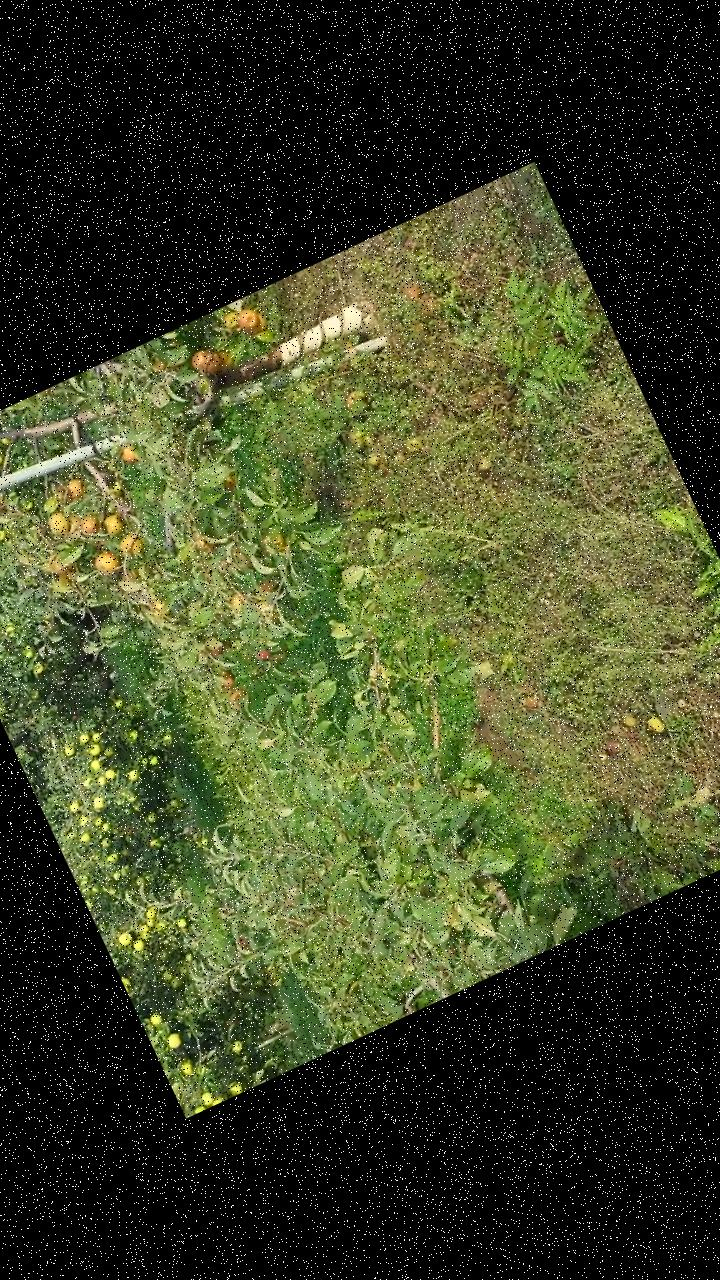Apple: (187, 346, 222, 381), (112, 530, 144, 562), (42, 552, 76, 580), (90, 546, 120, 576), (260, 529, 290, 559), (44, 509, 72, 538), (208, 348, 236, 377), (238, 312, 268, 339), (218, 307, 244, 338), (74, 513, 102, 539), (226, 589, 252, 615), (234, 306, 258, 333), (98, 512, 123, 536), (224, 686, 249, 710), (61, 476, 85, 500), (147, 596, 168, 618), (218, 670, 238, 691), (254, 576, 276, 595), (118, 447, 136, 466), (219, 474, 236, 494), (253, 648, 268, 662), (0, 494, 5, 517)
